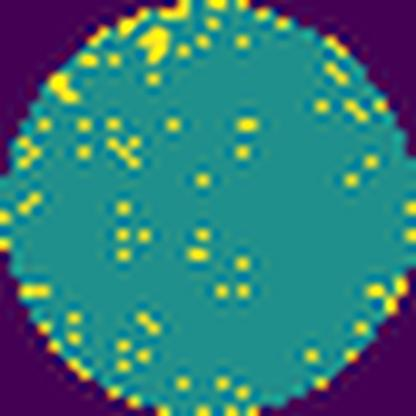Loc: (132, 25, 172, 65)
